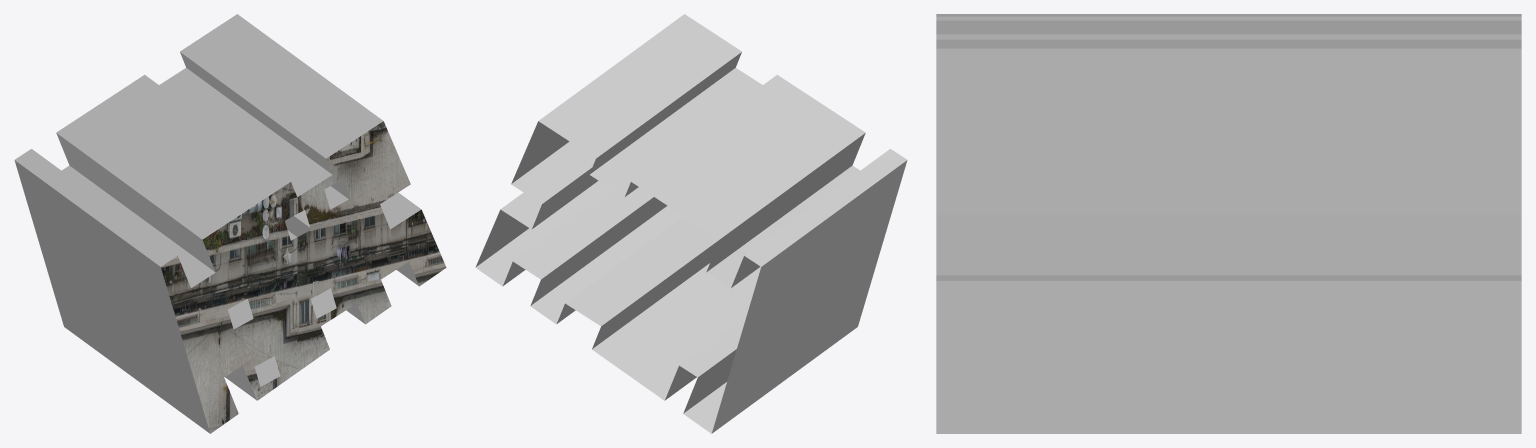
The model's file is geospecific_63.obj.
3 renders of one model, left to right at view 1: azimuth 30°, elevation 25°; view 2: azimuth 150°, elevation 25°; view 3: azimuth 270°, elevation 25°, orthographic. The views are drawn at different scales.
Visible parts, largest first — view 1: Building; view 2: Building; view 3: Building.
Part boxes in pixels (box(x1,y1,x2,y2)): Building: box(14, 14, 446, 433); Building: box(475, 14, 907, 433); Building: box(936, 14, 1521, 433).
Size of the model in its own units: 30.46 by 27.55 by 27.
